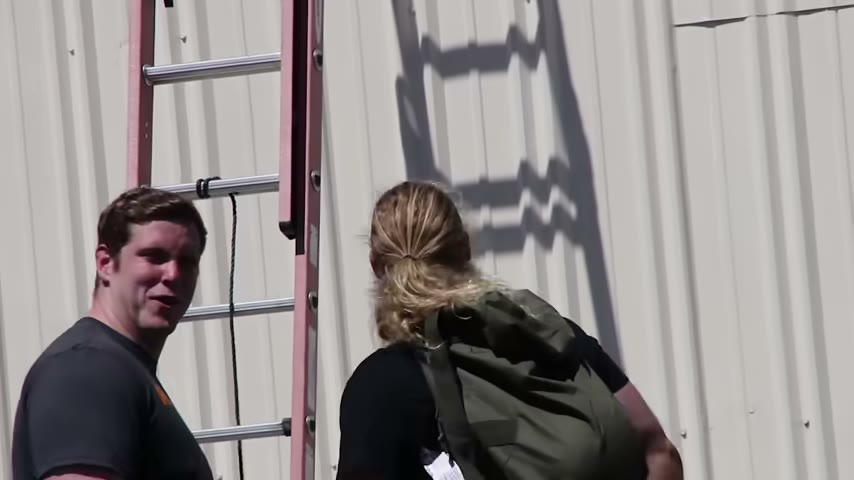barbell_plate_side: (326, 249, 417, 477)
